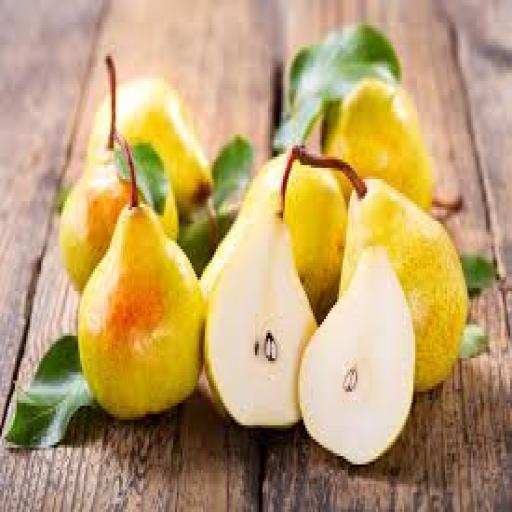pear: (27, 18, 477, 479)
